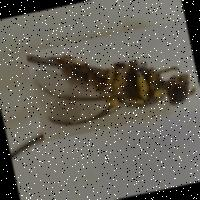Oriental-fruit-fly: (24, 18, 200, 141)
